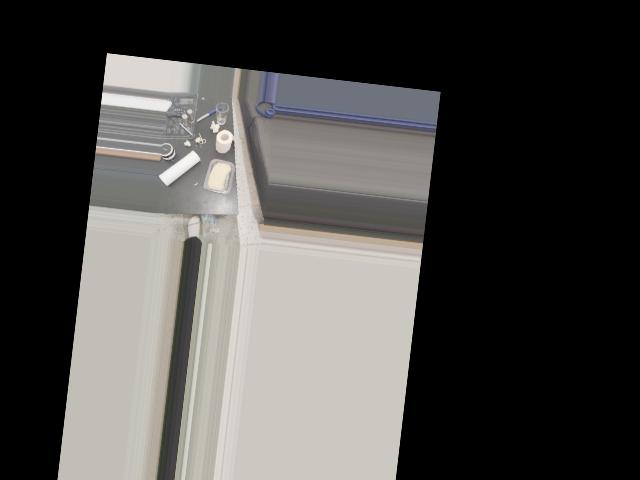cheese: (201, 156, 236, 198)
